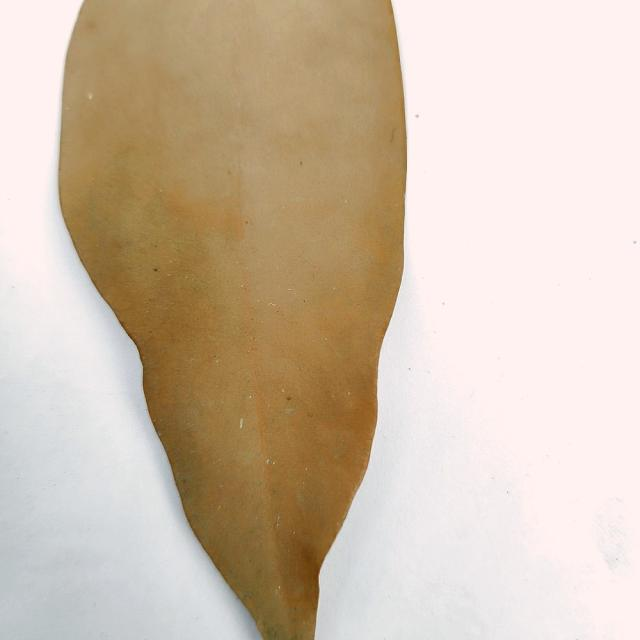Dry_Leaf-Lychee: (56, 0, 408, 639)
